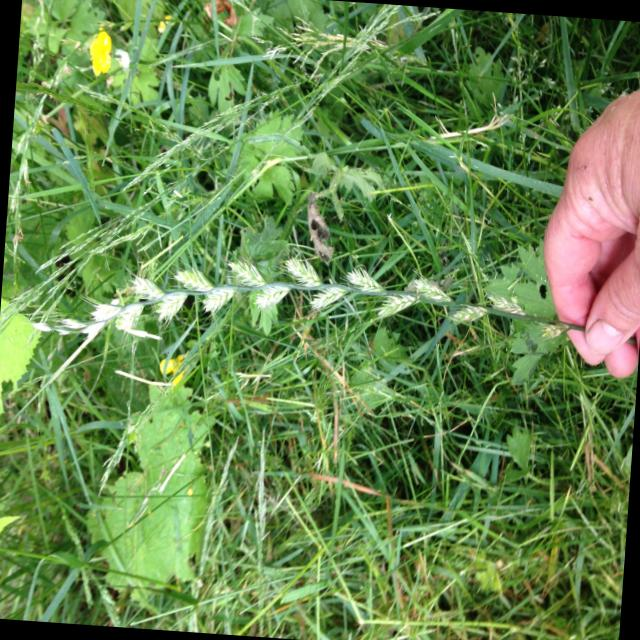Lolium: (29, 245, 574, 388)
